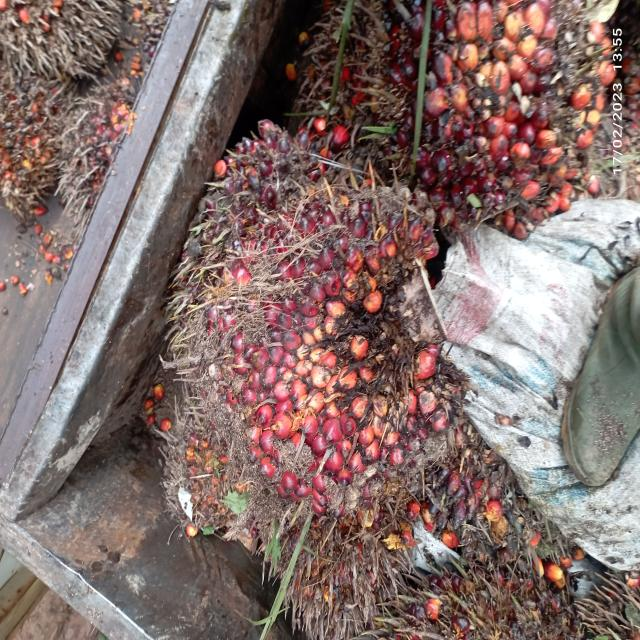fraksi 3: (177, 166, 495, 560)
